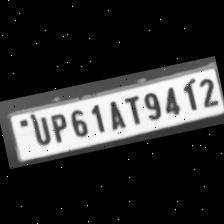1: (176, 78, 200, 112), (86, 100, 108, 135)
2: (194, 74, 220, 108)
4: (156, 82, 183, 118)
6: (63, 104, 91, 140)
9: (138, 88, 164, 122)
A: (100, 96, 127, 131)
P: (44, 108, 69, 144)
T: (120, 92, 144, 126)
U: (25, 112, 52, 148)
